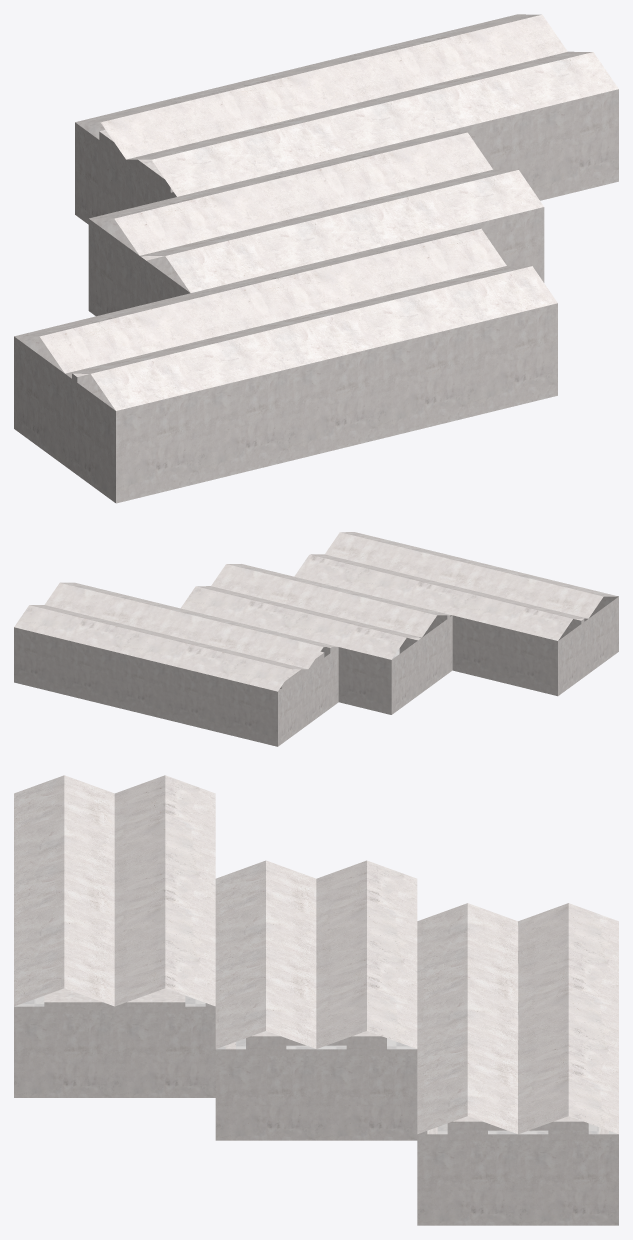
The model's file is SCN_Museum.fbx.
3 views of the same model, one above another, from view 1: azimuth 30°, elevation 25°; view 2: azimuth 150°, elevation 25°; view 3: azimuth 270°, elevation 25° (orthographic). The views are drawn at different scales.
Parts seen in each view (by area): view 1: MSH_Roof.001, MSH_OuterWall, Cube.053; view 2: MSH_Roof.001, MSH_OuterWall; view 3: MSH_Roof.001, MSH_OuterWall, Cube.056, MSH_Floor.
Boxes of the visible parts, x1,y1,x2,y2 form: MSH_Roof.001: (15, 14, 618, 410); MSH_OuterWall: (14, 89, 618, 503); Cube.053: (99, 130, 173, 192); MSH_Roof.001: (14, 532, 617, 691); MSH_OuterWall: (14, 596, 618, 746); MSH_Roof.001: (14, 775, 618, 1134); MSH_OuterWall: (14, 1006, 618, 1225); Cube.056: (44, 988, 185, 1006); MSH_Floor: (14, 995, 617, 1134).
Bounding box in the file's own units: 8000 × 1200 × 6000.
